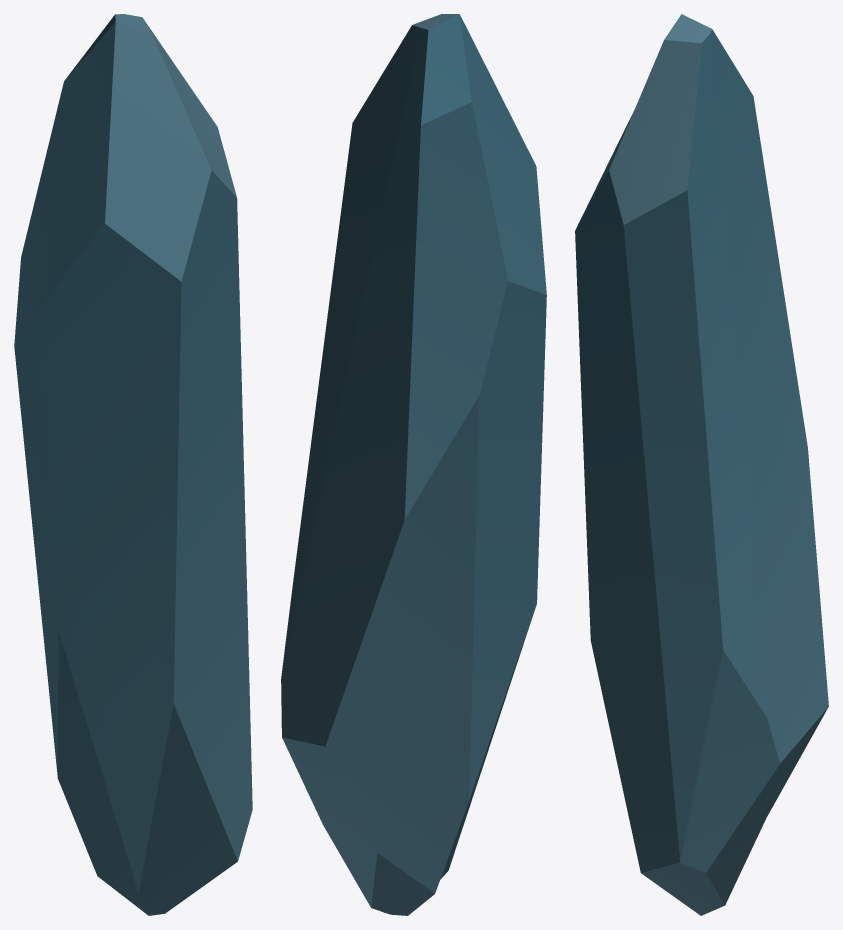
File: Rock04.fbx
3 renders of one model, left to right at view 1: azimuth 30°, elevation 25°; view 2: azimuth 150°, elevation 25°; view 3: azimuth 270°, elevation 25°, orthographic. The views are drawn at different scales.
Visible parts, largest first — view 1: LowPolyRock.001; view 2: LowPolyRock.001; view 3: LowPolyRock.001.
Boxes of the visible parts, bbox=[...] form: LowPolyRock.001: bbox=[14, 14, 252, 915]; LowPolyRock.001: bbox=[281, 14, 546, 915]; LowPolyRock.001: bbox=[575, 14, 828, 915].
Size of the model in its own units: 127 by 485 by 128.
